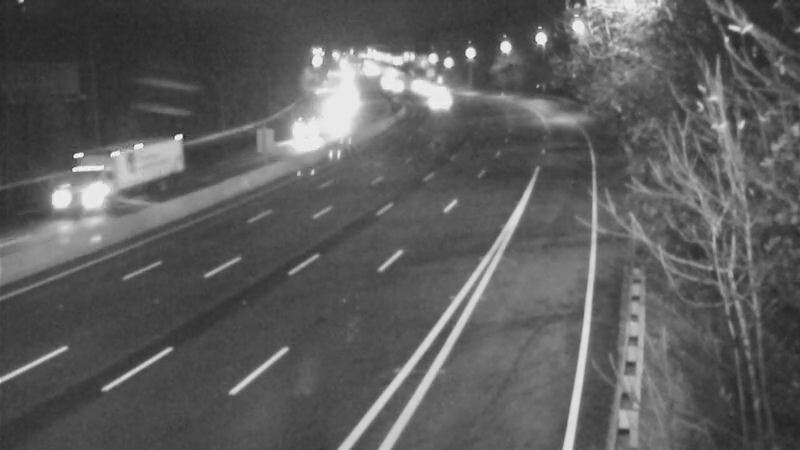vehicle: (73, 141, 153, 221), (367, 60, 417, 110), (392, 62, 442, 112), (399, 58, 449, 108), (416, 73, 466, 123), (273, 106, 323, 156)
